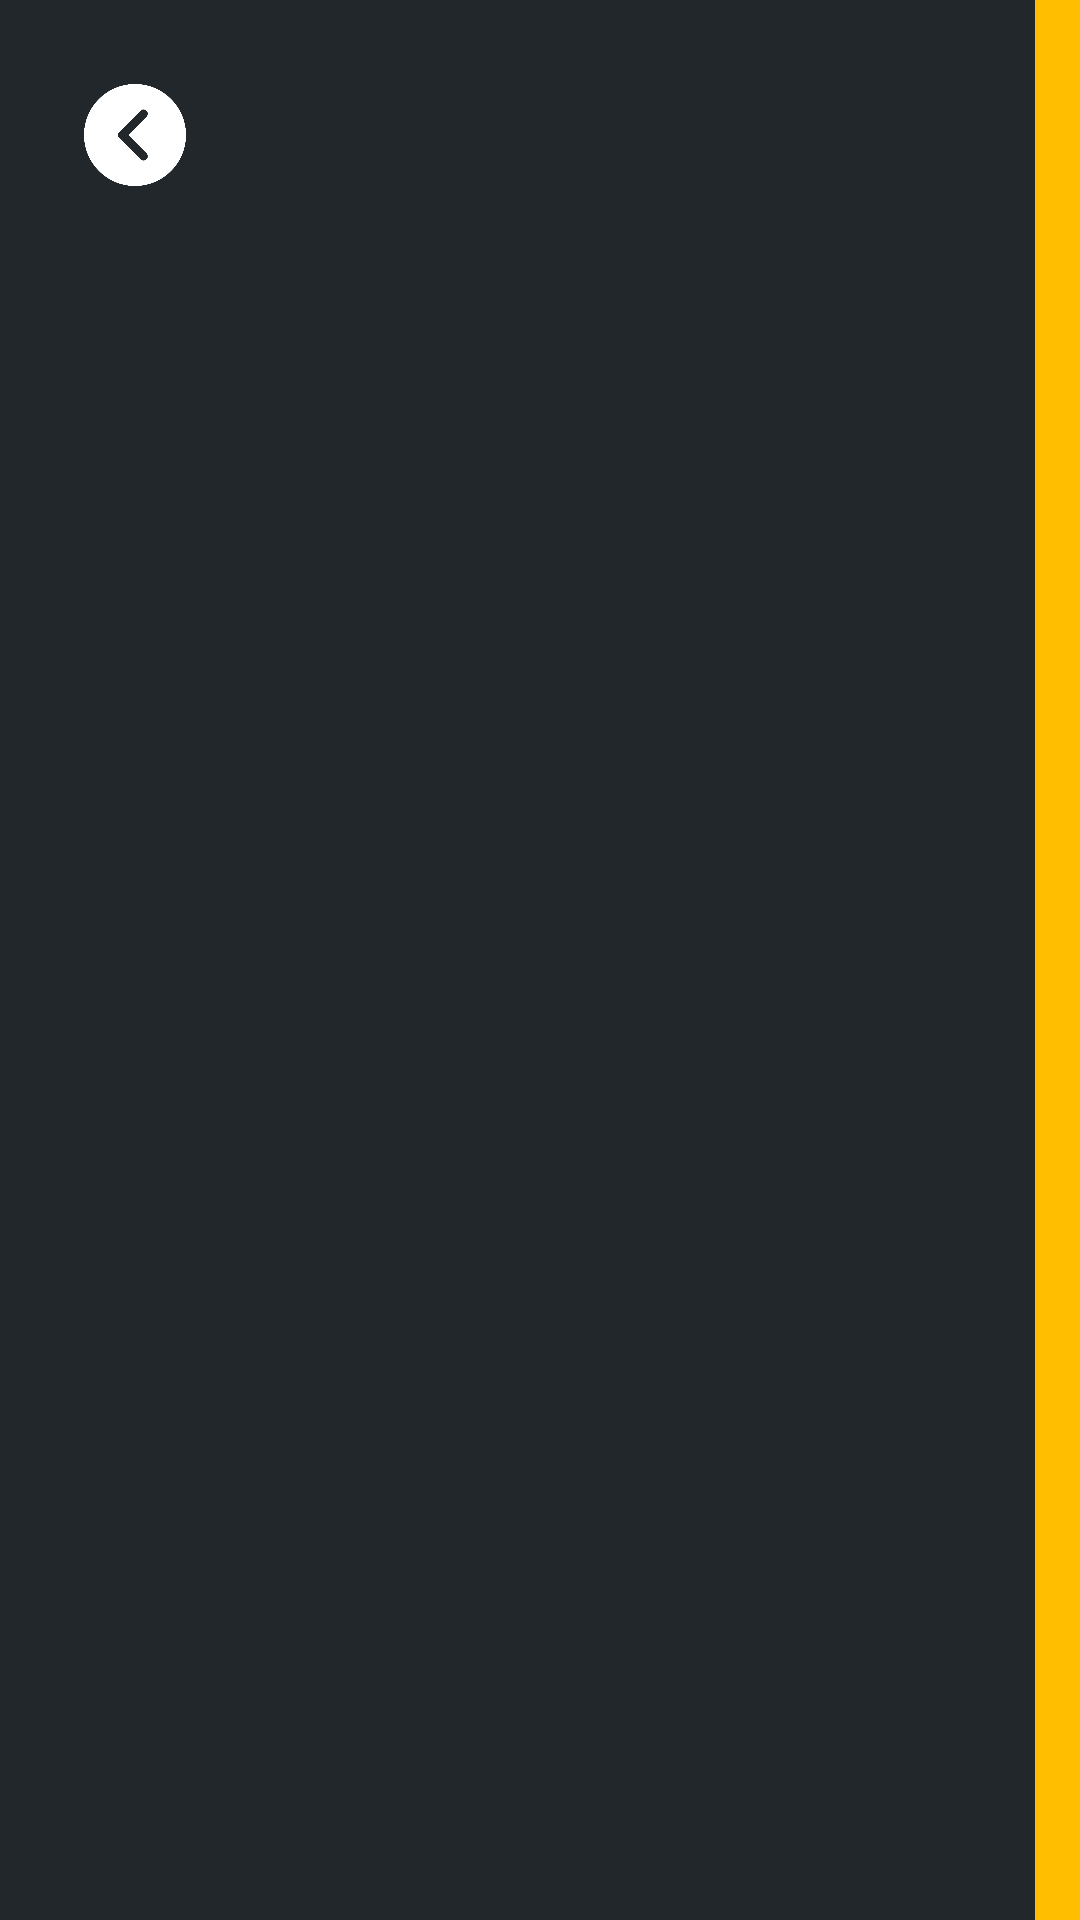

Named icons in this screenshot (1080x1920) and their bounding boxes, (x1, y1, x2, y2):
back: (84, 84, 186, 186)
